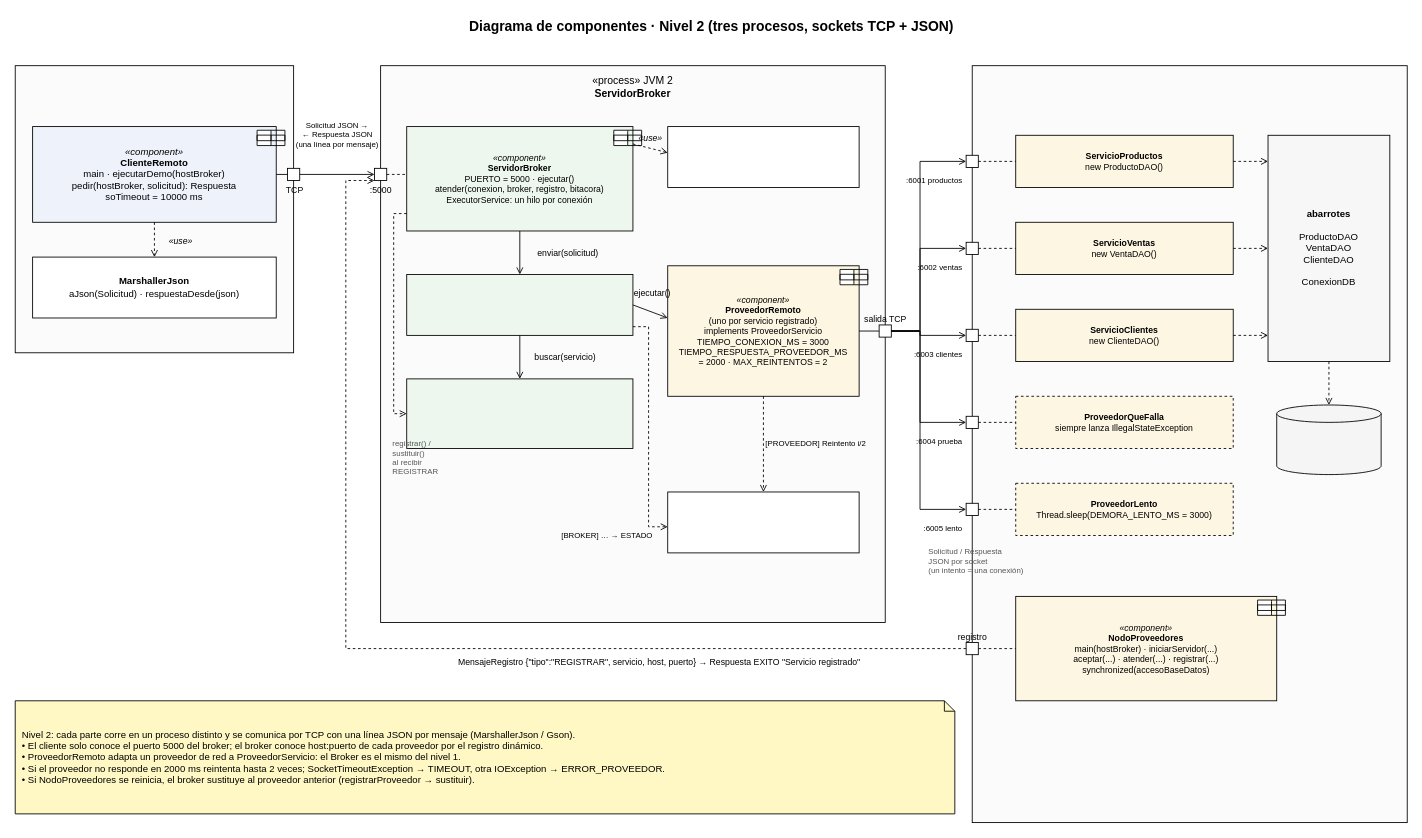
The diagram is 1422 pixels wide and 838 high, and some of its shapes have lost their labels. The box of each missing label's shape, as (x1, y1, x2, y2) in pixels:
Bitacora consola + logs/broker.log: (667, 491, 859, 553)
Broker enviar(Solicitud): Respuesta: (406, 274, 633, 335)
data/tienda.db: (1276, 404, 1381, 475)
MarshallerJson solicitudDesde · registroDesde aJson(Respuesta): (667, 126, 859, 187)
RegistroServicios servicio → ProveedorRemoto registrar · buscar · sustituir: (406, 378, 633, 448)
«process» JVM 1 ClienteRemoto: (14, 65, 294, 353)
«process» JVM 3 NodoProveedores: (971, 65, 1407, 823)
